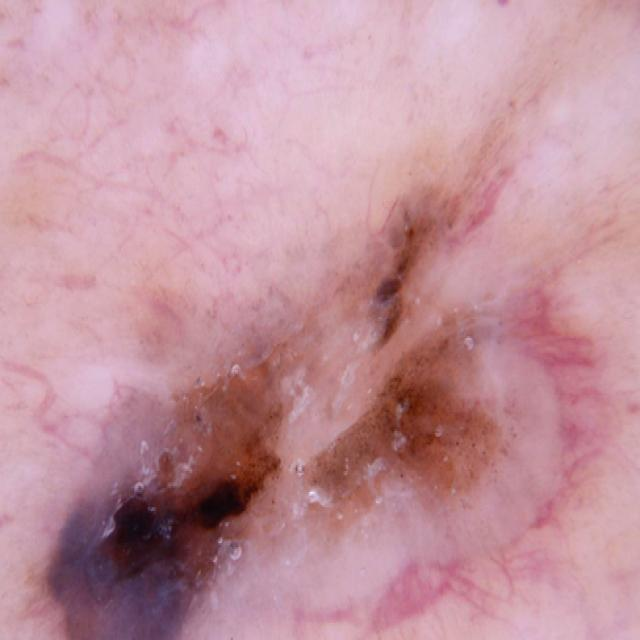Carcinoma: (0, 157, 636, 640)
